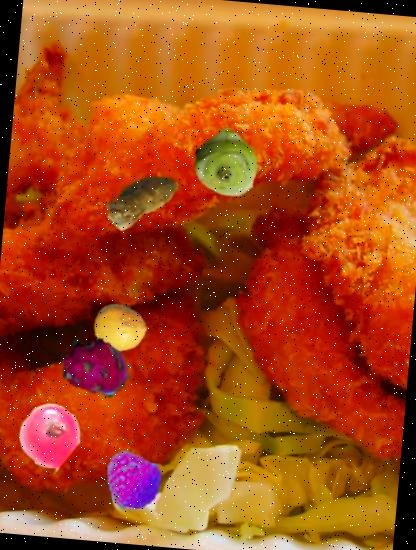Ginger: (100, 158, 186, 244)
Kohlrabi: (191, 126, 265, 200)
Lemon: (91, 298, 150, 358)
Pitahaya: (58, 330, 134, 406)
Raspberry: (104, 449, 166, 511)
Redcurrant: (16, 402, 84, 470)
